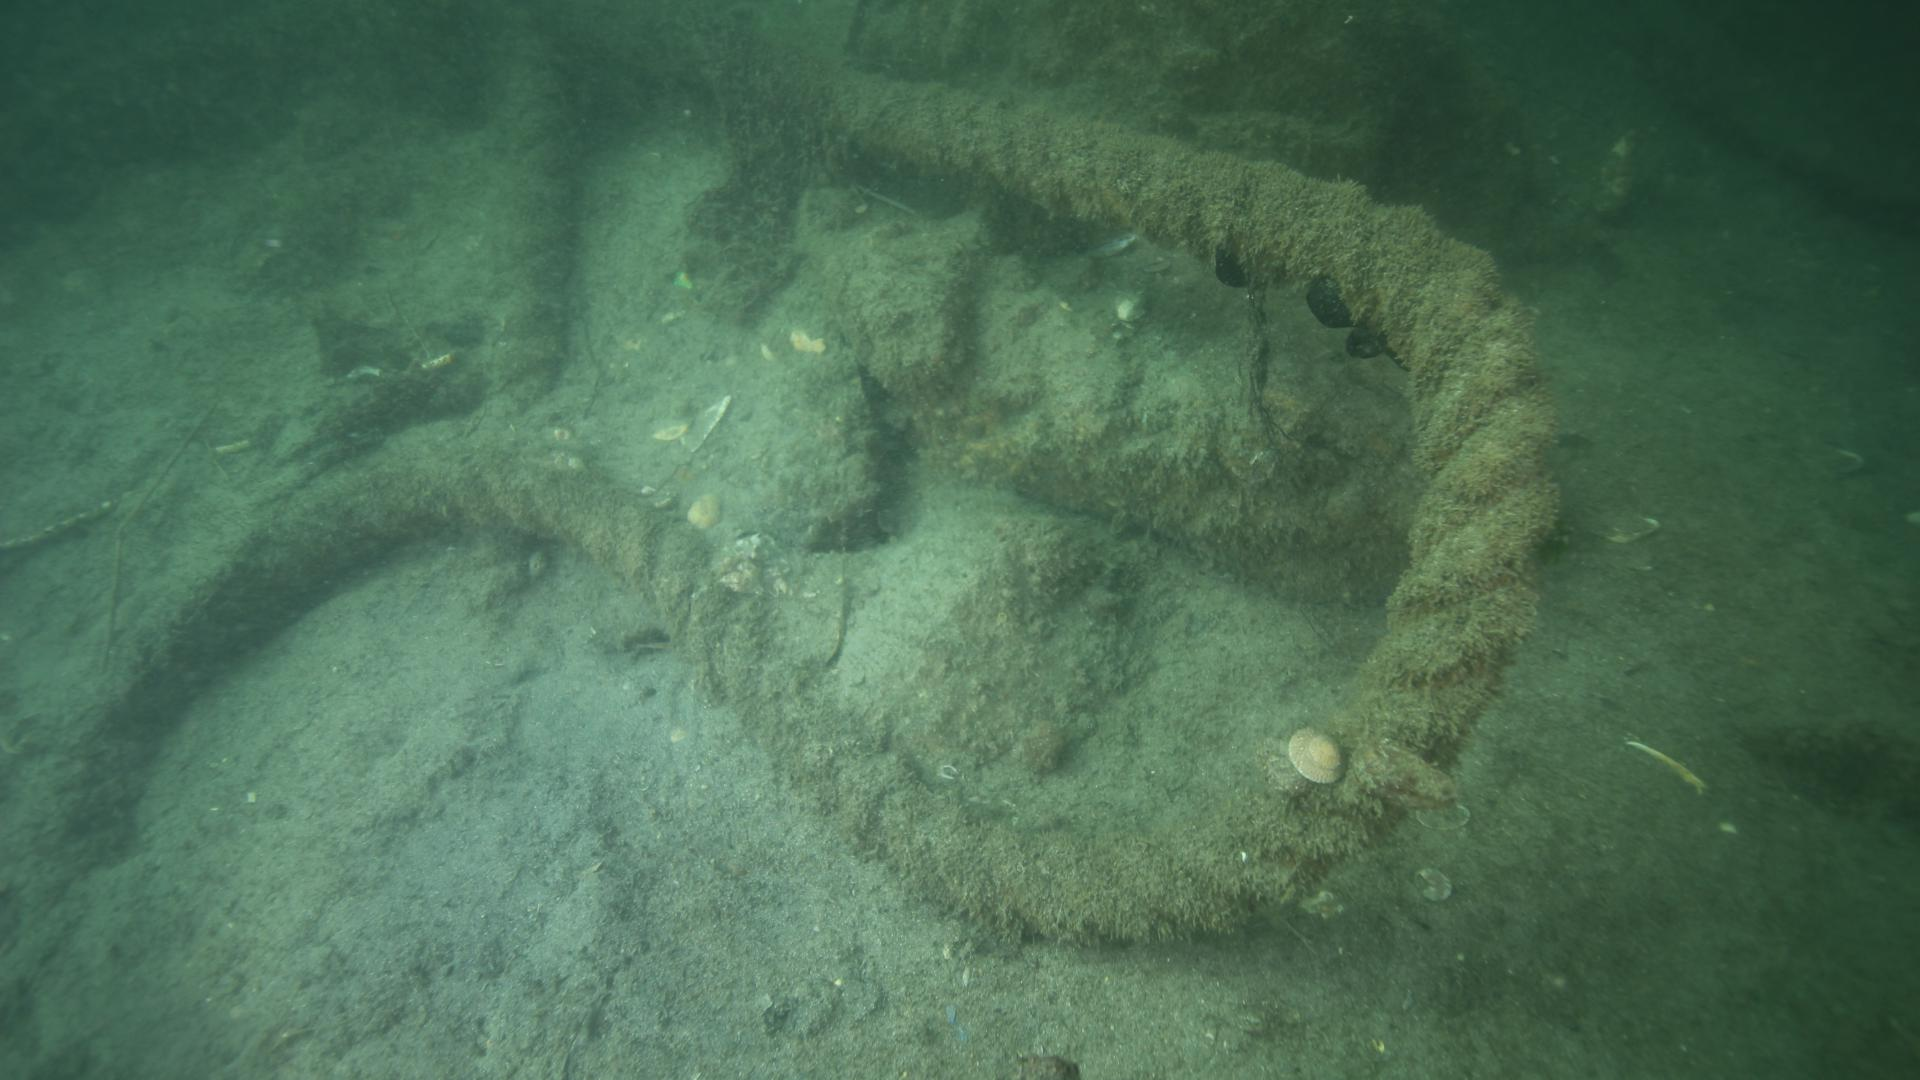rope: (28, 66, 1571, 953)
